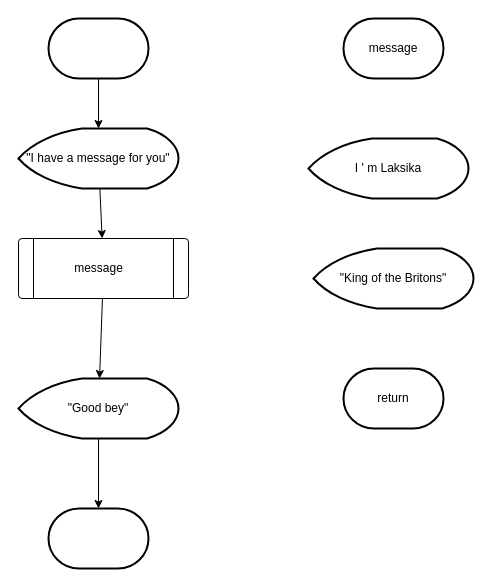
The diagram is 491 pixels wide and 586 high, and some of its shapes have lost their labels. Each missing label, with the centre of its shape:
Srart: (98,48)
stop: (98,538)
